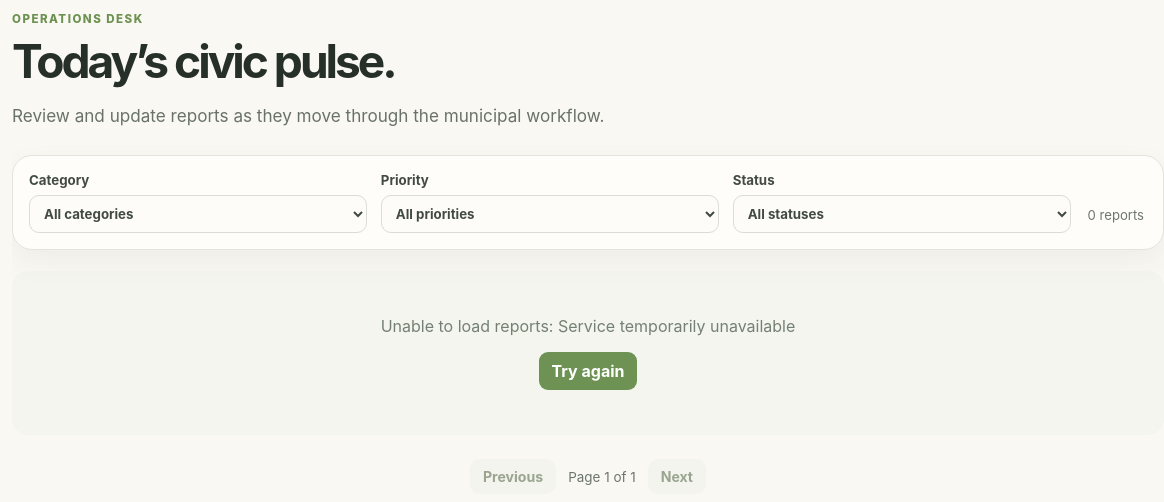
Test case: DashboardView › offers a retry after a list request fails
Expected: the message shows "Unable to load reports: Service temporarily unavailable", [12,271,1163,435]
Click the button "Try again": (588, 371) [538,352,638,390]
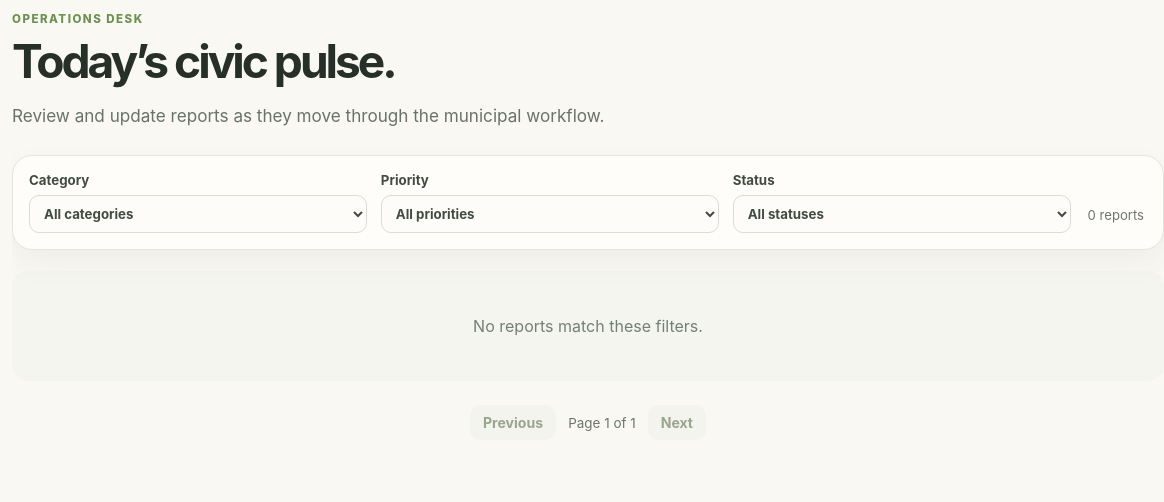
Expected: the text "No reports match these filters." is shown, [12,271,1163,381]
